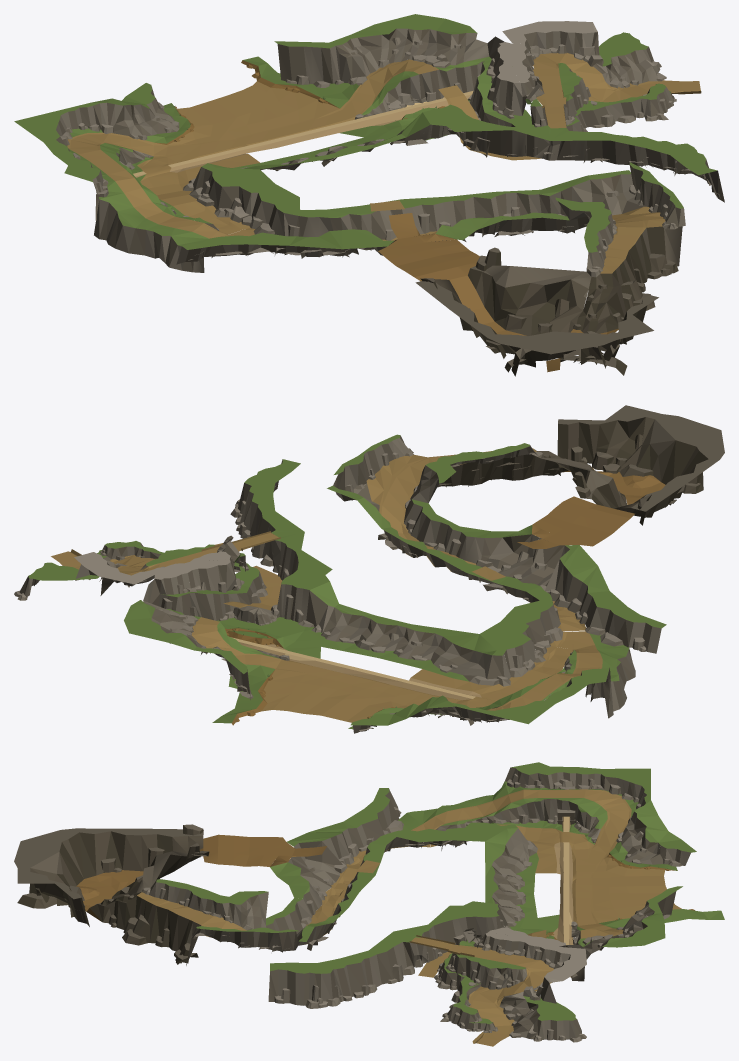
The model's file is Mountain3.fbx.
The picture shows the model from 3 angles, top to bottom: view 1: azimuth 30°, elevation 25°; view 2: azimuth 150°, elevation 25°; view 3: azimuth 270°, elevation 25°; orthographic projection. The views are drawn at different scales.
Visible parts, largest first — view 1: Mountain14_, TrackC, Mountain28_, Mountain25_, Mountain29_, Mountain27_, Grass4_, Mountain6_, Mountain18_, Mountain16, Mountain20_, Mountain21_ (+24 smaller); view 2: Mountain29_, Mountain15_, Mountain23_, Mountain21_, TrackC, Mountain16, Grass4_, Mountain6_, TrackG, TrackB, Mountain14_, Mountain7_ (+24 smaller); view 3: Mountain29_, Mountain6_, TrackC, Mountain18_, Mountain15_, Mountain27_, Mountain21_, TrackA, Mountain17_, Grass4_, Mountain23_, Mountain24_ (+23 smaller).
Part boxes in pixels (bbox=[...]): Mountain14_: bbox=[274, 14, 489, 87]; TrackC: bbox=[67, 132, 260, 238]; Mountain28_: bbox=[468, 247, 591, 335]; Mountain25_: bbox=[402, 170, 643, 233]; Mountain29_: bbox=[415, 278, 658, 376]; Mountain27_: bbox=[573, 226, 682, 333]; Grass4_: bbox=[168, 81, 339, 144]; Mountain6_: bbox=[542, 125, 724, 202]; Mountain18_: bbox=[14, 83, 179, 146]; Mountain16: bbox=[183, 163, 300, 235]; Mountain20_: bbox=[94, 193, 208, 272]; Mountain21_: bbox=[176, 229, 387, 264]; Mountain29_: bbox=[557, 405, 724, 525]; Mountain15_: bbox=[284, 581, 496, 681]; Mountain23_: bbox=[404, 499, 578, 585]; Mountain21_: bbox=[540, 545, 666, 653]; TrackC: bbox=[383, 631, 602, 710]; Mountain16: bbox=[463, 600, 563, 686]; Grass4_: bbox=[262, 669, 412, 722]; Mountain6_: bbox=[230, 459, 304, 572]; TrackG: bbox=[517, 496, 634, 548]; TrackB: bbox=[191, 565, 391, 692]; Mountain14_: bbox=[124, 600, 253, 699]; Mountain7_: bbox=[271, 532, 332, 622]; Mountain29_: bbox=[14, 824, 203, 926]; Mountain6_: bbox=[268, 931, 422, 1008]; TrackC: bbox=[411, 789, 631, 881]; Mountain18_: bbox=[596, 768, 696, 866]; Mountain15_: bbox=[485, 829, 559, 931]; Mountain27_: bbox=[90, 892, 201, 965]; Mountain21_: bbox=[287, 788, 403, 873]; TrackA: bbox=[409, 935, 553, 1046]; Mountain17_: bbox=[436, 798, 607, 844]; Grass4_: bbox=[592, 854, 681, 922]; Mountain23_: bbox=[266, 842, 339, 933]; Mountain24_: bbox=[142, 879, 268, 930].
Bounding box in the file's own units: 482 × 54 × 572.
3 materials, 3 textured.
